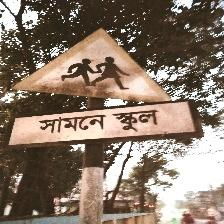School-in-front: (7, 26, 198, 149)
